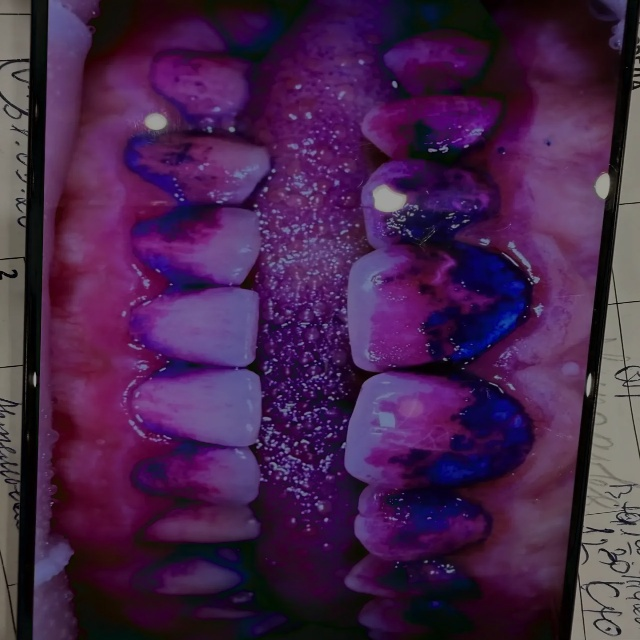clean_tooth: (592, 359, 639, 484), (586, 585, 639, 639), (613, 203, 639, 301), (623, 88, 639, 202), (579, 546, 620, 581), (619, 302, 639, 365), (582, 531, 635, 551)
plaque: (32, 0, 580, 639), (152, 549, 243, 593), (232, 14, 277, 46), (602, 0, 626, 49)
